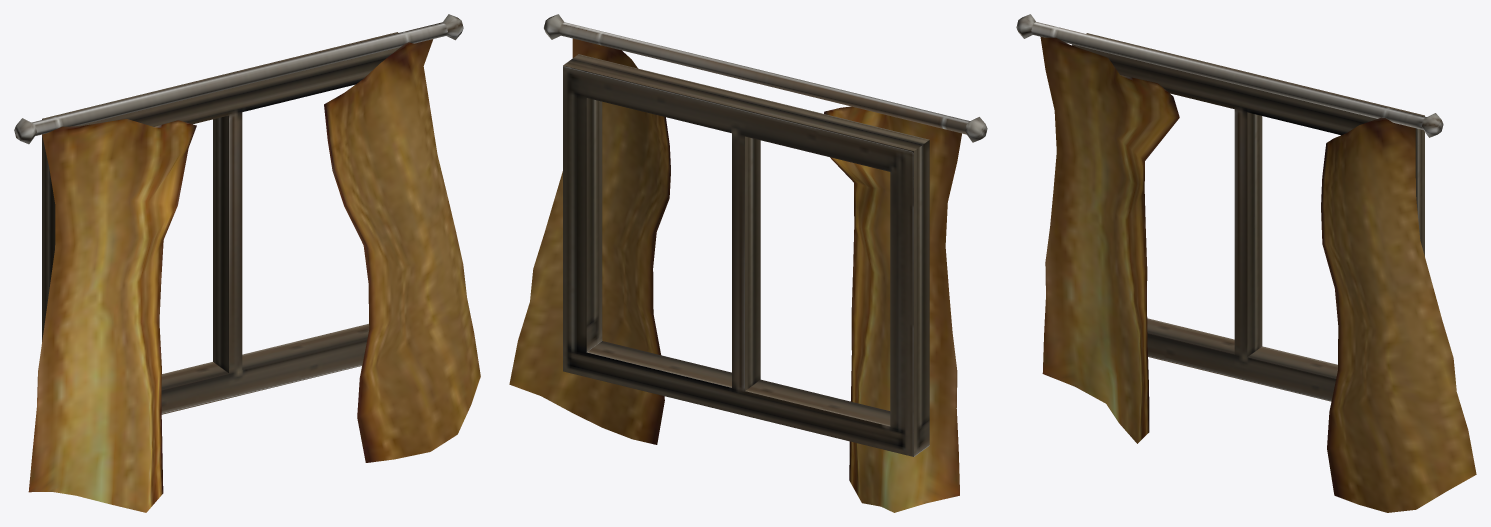
File: window.FBX
3 renders of one model, left to right at view 1: azimuth 30°, elevation 25°; view 2: azimuth 150°, elevation 25°; view 3: azimuth 330°, elevation 25°, orthographic. The views are drawn at different scales.
Visible parts, largest first — view 1: drapes, window_frame; view 2: drapes, window_frame; view 3: drapes, window_frame.
Part boxes in pixels (x1=…): drapes: x1=14, y1=14, x2=480, y2=512; window_frame: x1=42, y1=32, x2=400, y2=414; drapes: x1=509, y1=14, x2=987, y2=512; window_frame: x1=563, y1=54, x2=929, y2=456; drapes: x1=1016, y1=14, x2=1476, y2=512; window_frame: x1=1072, y1=33, x2=1424, y2=401.
Size of the model in its own units: 85 by 72.27 by 12.13.
